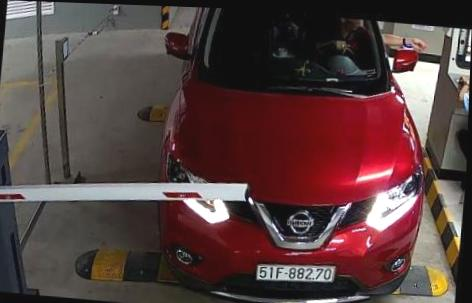License_Plate: (255, 256, 342, 289)
